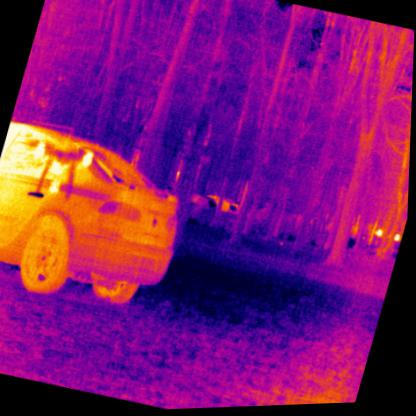drone: (25, 138, 95, 205)
